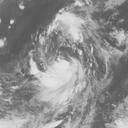cyclone: (33, 57, 83, 110)
